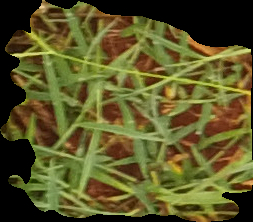grass: (1, 1, 252, 220)
